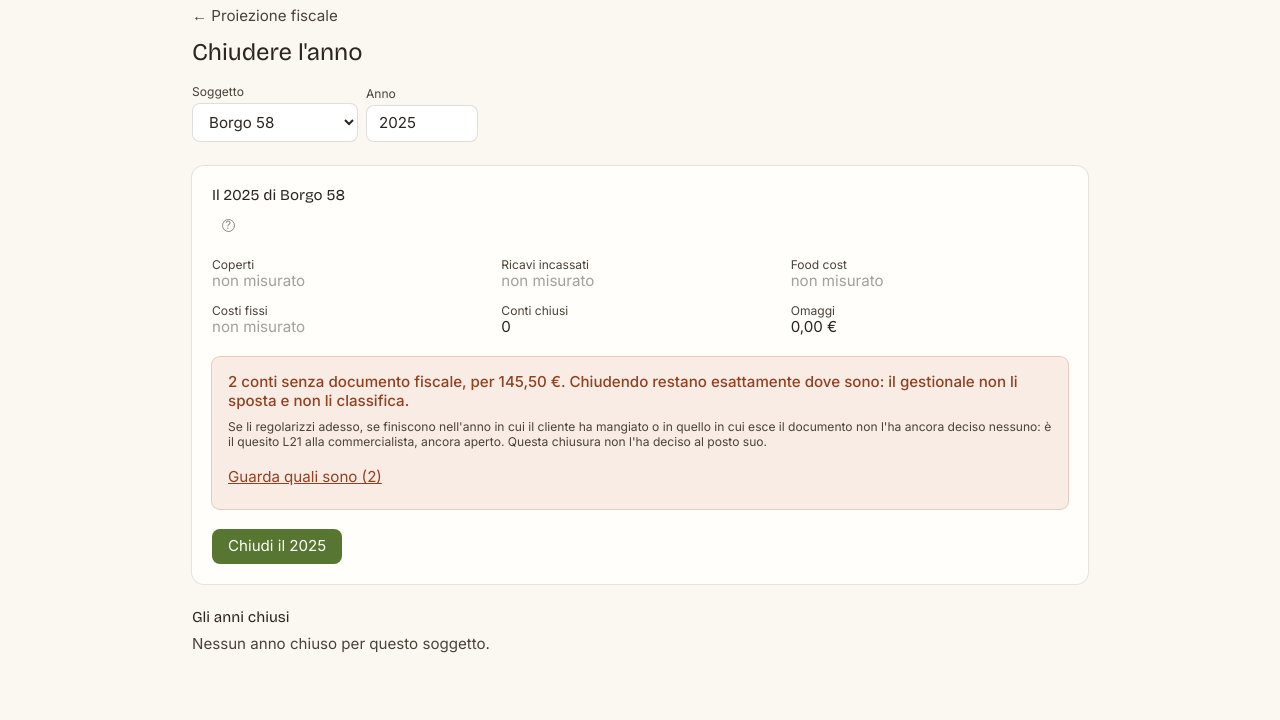
it: 🔴 con conti senza documento la schermata avvisa PRIMA › porta all'elenco vero dei conti, non a un numero e basta
Expected: the element showing "non misurato" below "Ricavi incassati" is shown, x1=501 y1=271 x2=594 y2=290
Click the button "Guarda quali sono (2)": (305, 477) x1=228 y1=461 x2=382 y2=493
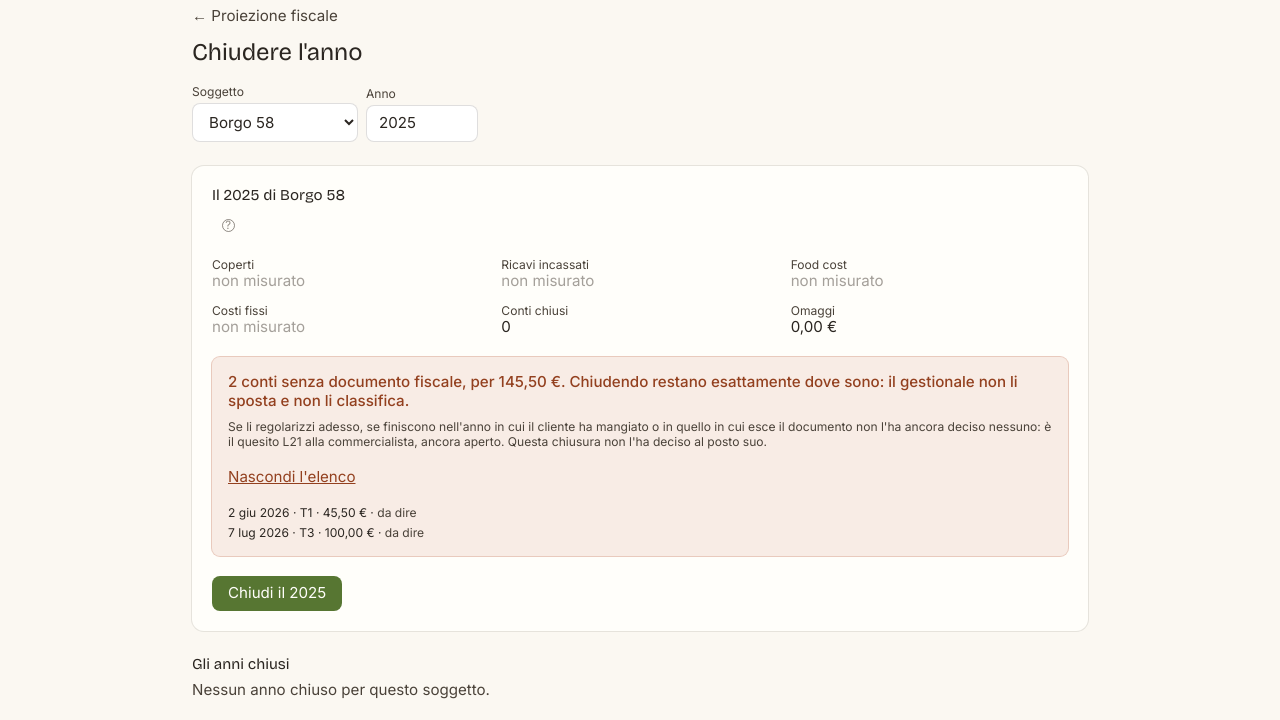
Expected: the list is shown, x1=228 y1=506 x2=424 y2=540
Expected: the list shows "T1", x1=300 y1=506 x2=312 y2=520
Expected: the list shows "T3", x1=299 y1=525 x2=314 y2=540
